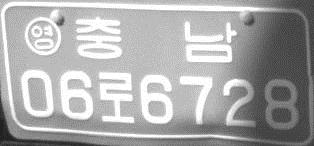0: (19, 68, 55, 118)
2: (222, 76, 257, 128)
6: (58, 69, 93, 121), (139, 73, 173, 125)
7: (178, 75, 213, 126)
8: (263, 77, 299, 130)
로: (97, 71, 135, 124)
영: (23, 16, 62, 57)
충남_D: (74, 16, 237, 63)
